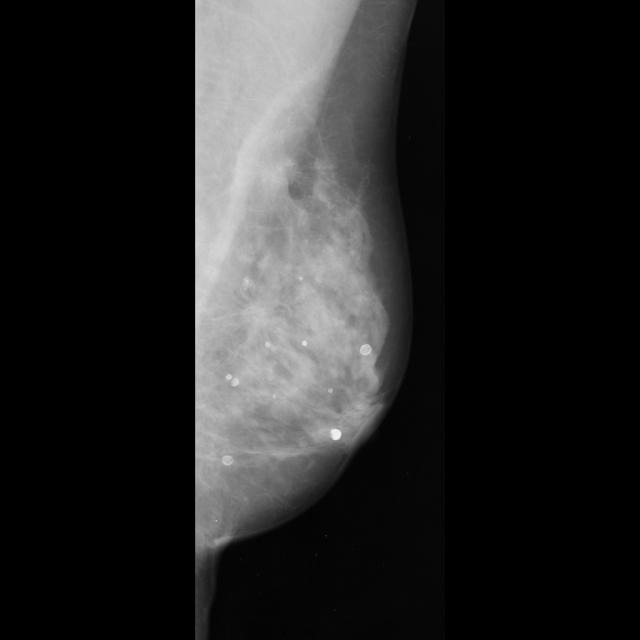SPIC: (59, 0, 222, 342)
